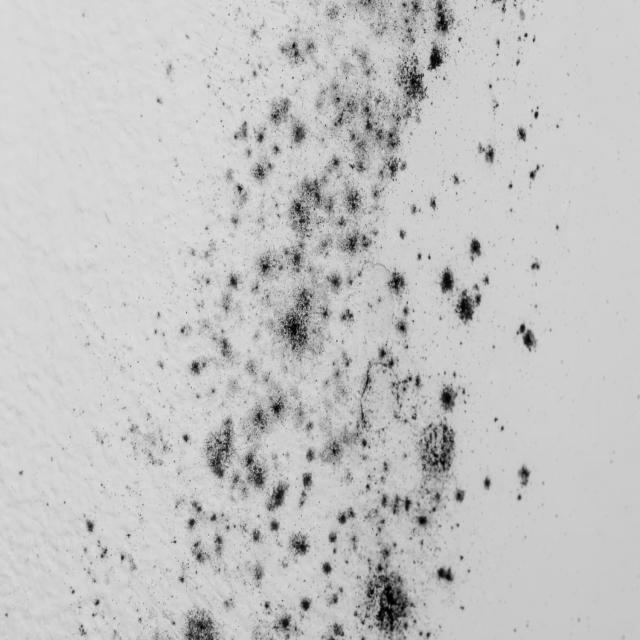stain marks: (63, 0, 579, 635), (10, 443, 61, 518)
